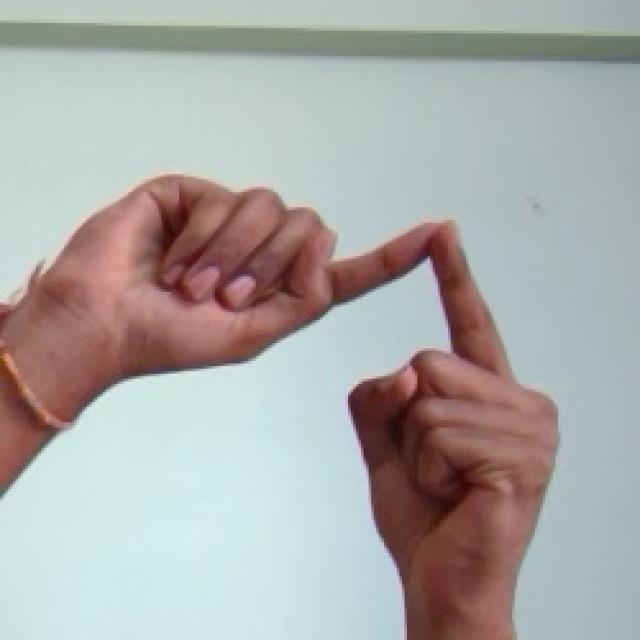Alphabet-E: (0, 177, 558, 639)
